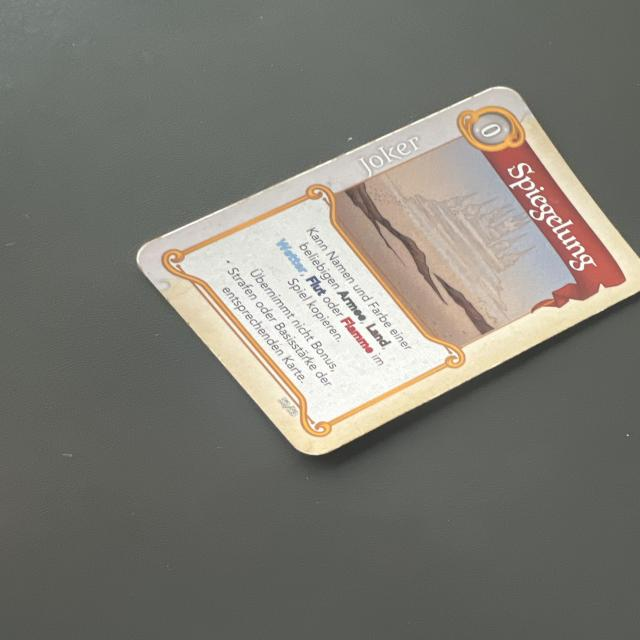Mirage: (125, 82, 639, 462)
